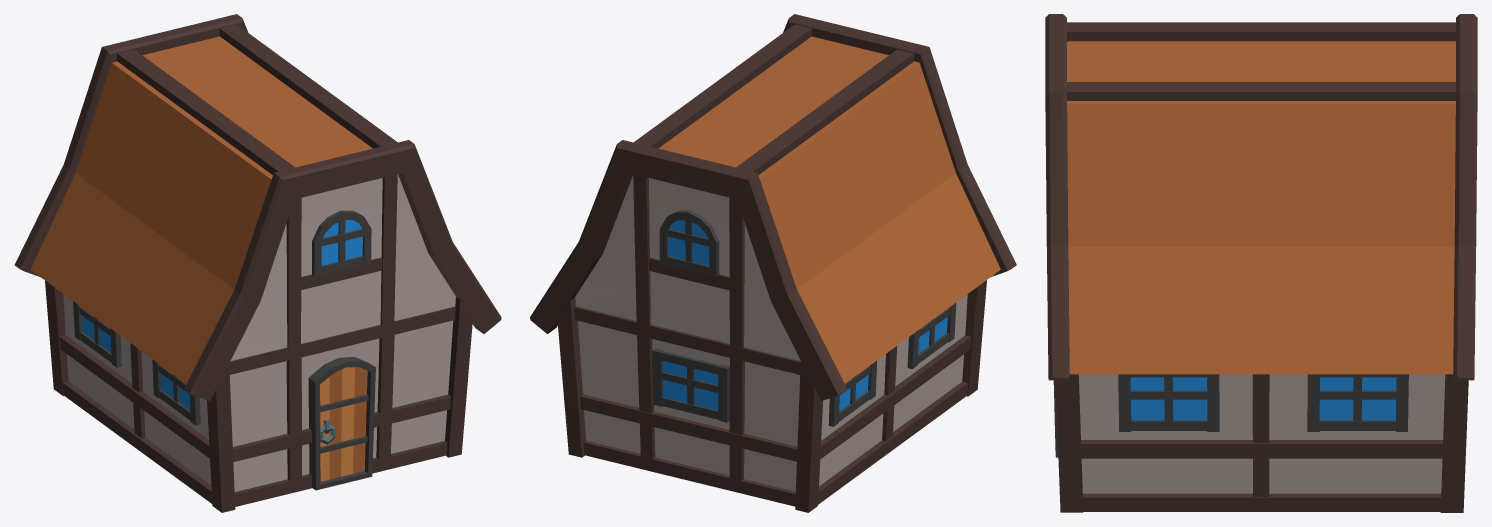
The model's file is House_5-1.fbx.
3 views of the same model, side by side, from view 1: azimuth 30°, elevation 25°; view 2: azimuth 150°, elevation 25°; view 3: azimuth 270°, elevation 25° (orthographic). The views are drawn at different scales.
Parts seen in each view (by area): view 1: 1.003; view 2: 1.003; view 3: 1.003.
Boxes of the visible parts, x1,y1,x2,y2 form: 1.003: (14, 14, 501, 512); 1.003: (530, 14, 1016, 512); 1.003: (1045, 14, 1477, 512).
Bounding box in the file's own units: 559 × 559 × 562.
